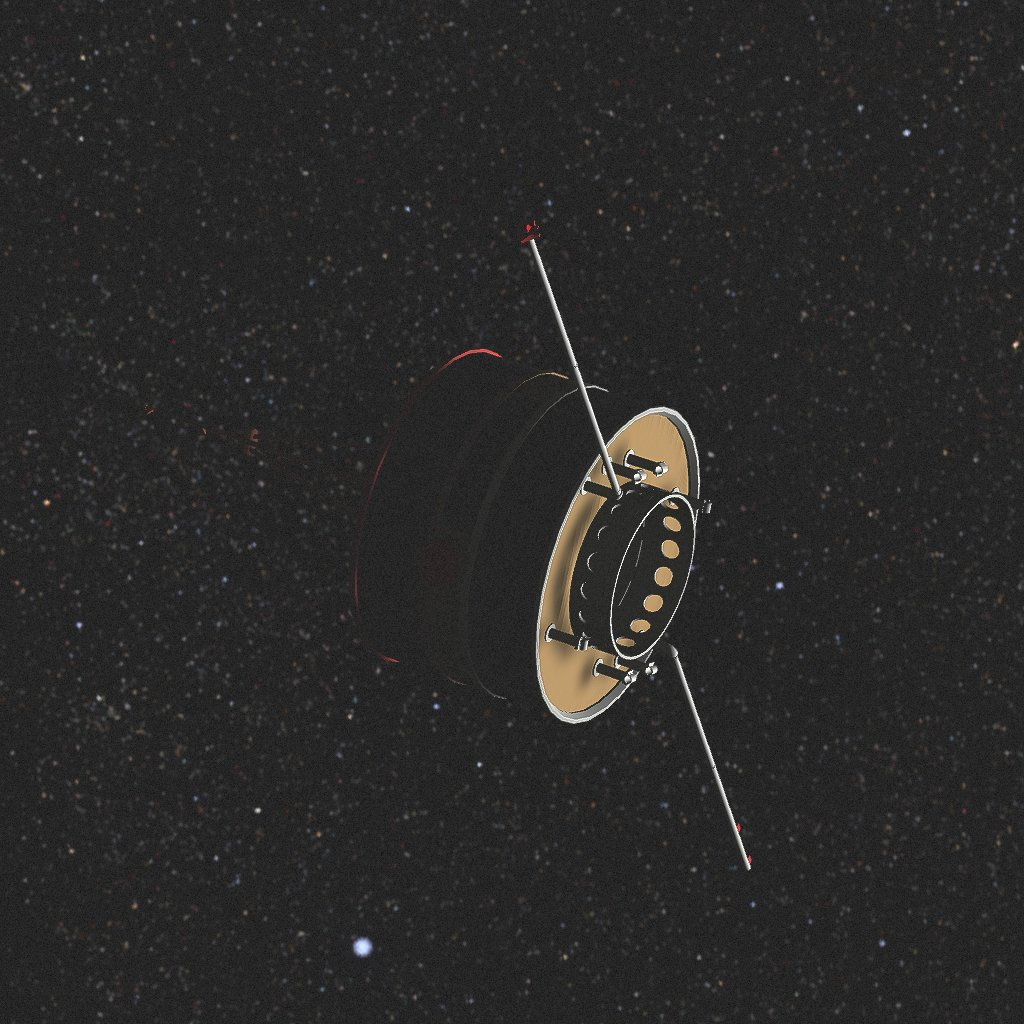double_star: (145, 219, 751, 871)
